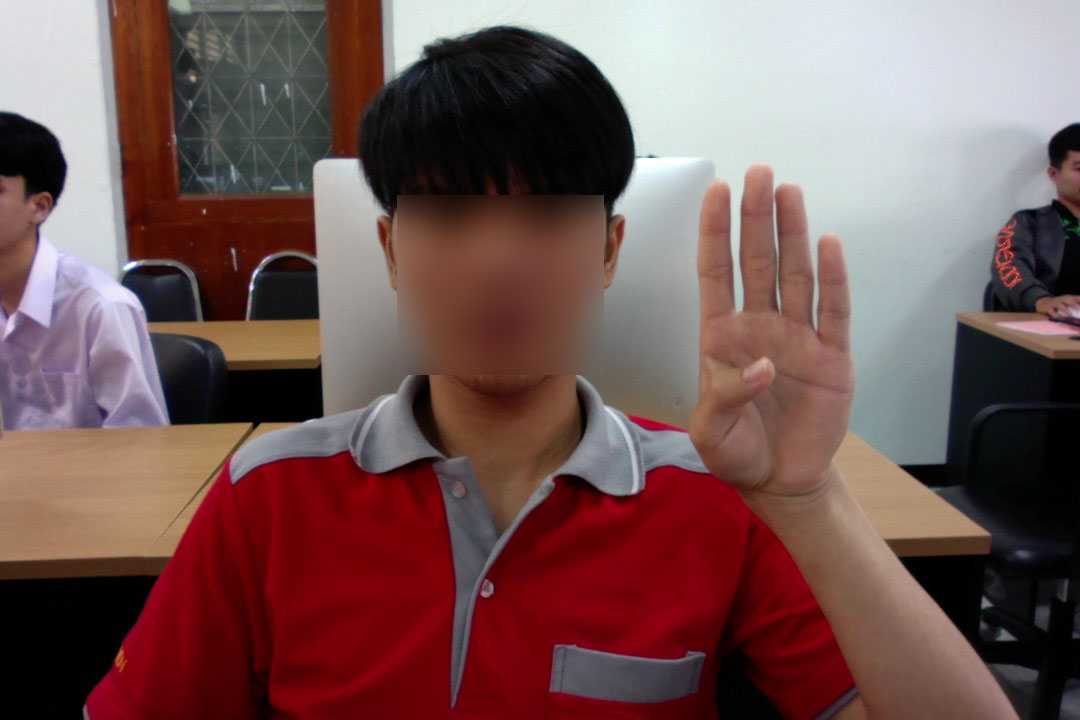bor: (684, 159, 865, 520)
